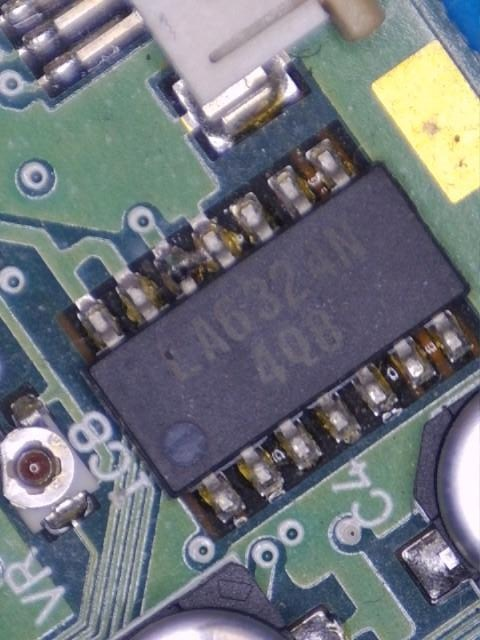pcb_defect: (153, 232, 237, 296)
